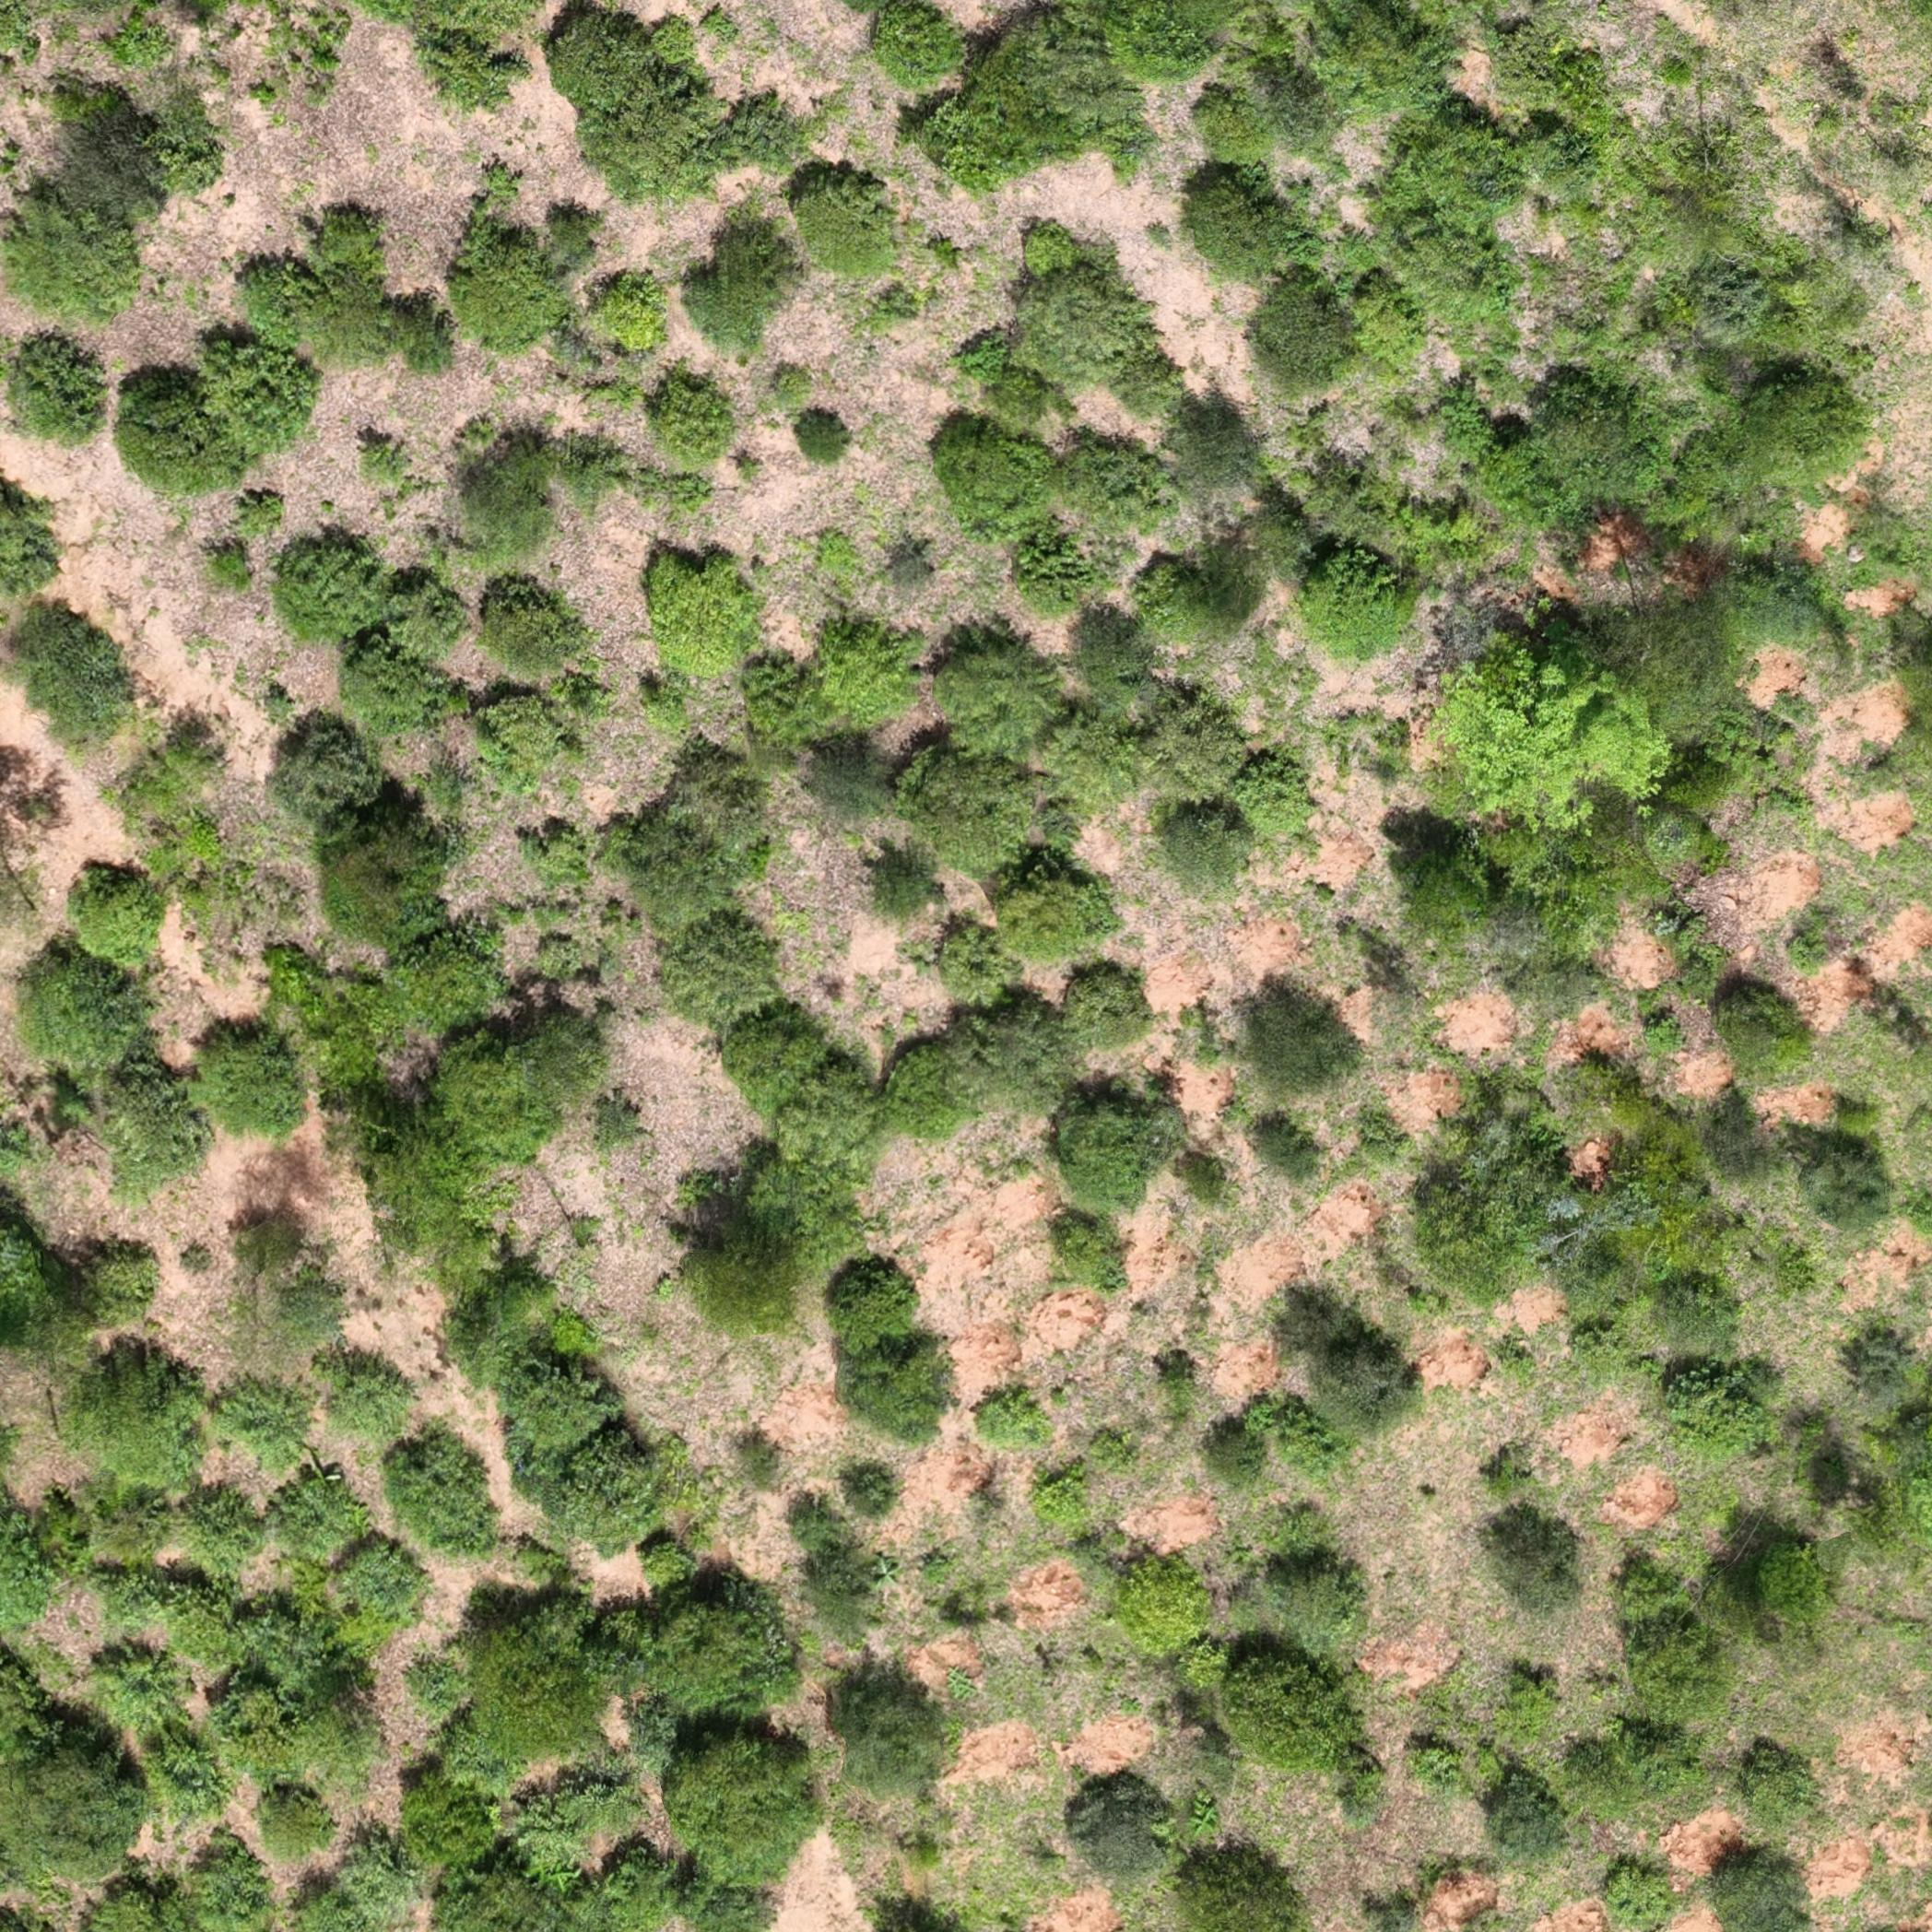Banana: (1173, 1783, 1242, 1842), (863, 1548, 913, 1596), (308, 1463, 340, 1495), (947, 1674, 962, 1693)
